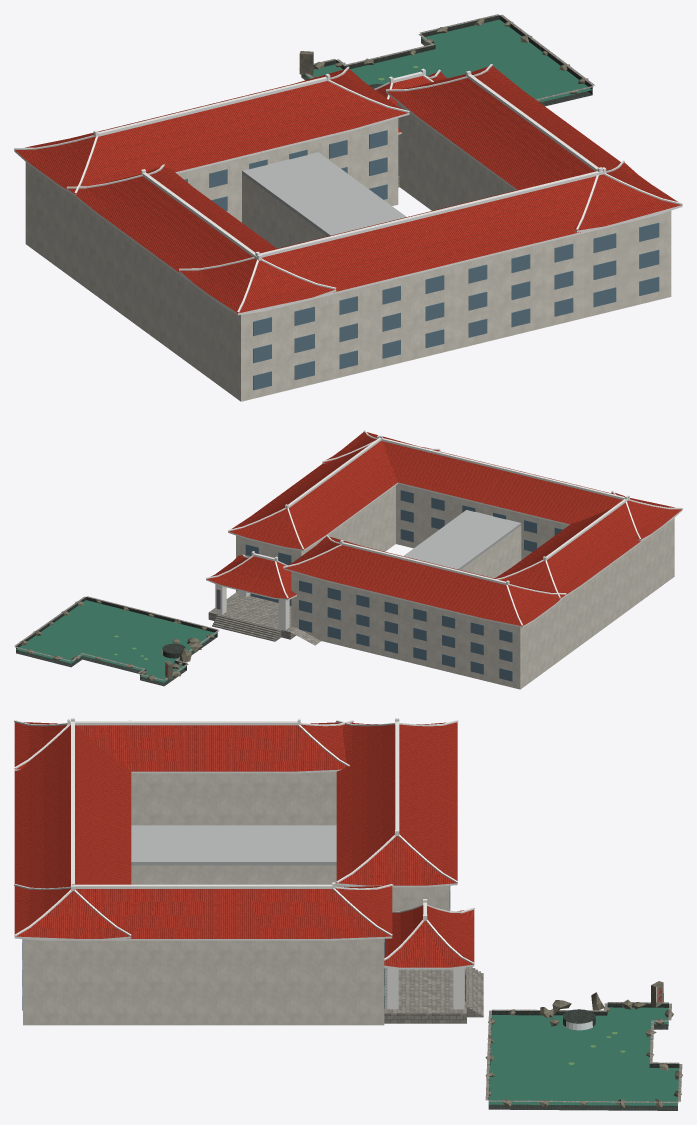
File: d03_yanchi_arts_lod1.glb
3 views of the same model, one above another, from view 1: azimuth 30°, elevation 25°; view 2: azimuth 150°, elevation 25°; view 3: azimuth 270°, elevation 25° (orthographic). The views are drawn at different scales.
Parts seen in each view (by area): view 1: arts_education_center.001, yanchi_ink_pond.001; view 2: arts_education_center.001, yanchi_ink_pond.001; view 3: arts_education_center.001, yanchi_ink_pond.001.
Boxes of the visible parts, x1,y1,x2,y2 form: arts_education_center.001: (14,64,682,401); yanchi_ink_pond.001: (299,14,594,106); arts_education_center.001: (206,430,682,689); yanchi_ink_pond.001: (14,596,219,686); arts_education_center.001: (14,718,483,1025); yanchi_ink_pond.001: (485,981,682,1110).
Bounding box in the file's own units: 79.13 × 16.32 × 76.85.
Materials: 13 (6 with a texture image).
